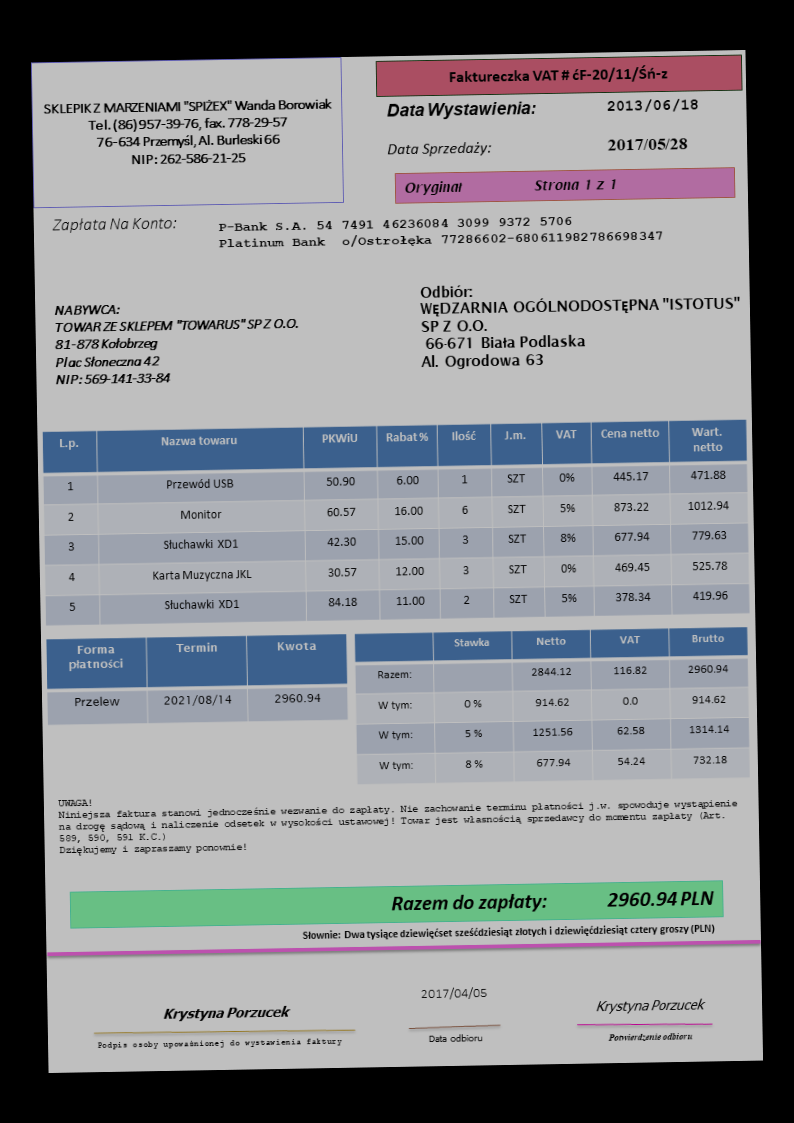Table: (41, 419, 752, 628), (353, 626, 753, 785), (44, 633, 348, 727)
TextBox: (55, 785, 740, 860), (418, 279, 744, 373), (50, 298, 304, 389), (41, 92, 334, 170), (215, 211, 667, 254), (300, 920, 717, 944), (388, 888, 716, 915), (447, 64, 670, 87), (95, 1034, 343, 1054), (405, 175, 621, 196), (385, 98, 539, 122), (49, 215, 180, 236), (162, 1004, 293, 1025), (594, 995, 707, 1017), (385, 140, 493, 159), (605, 96, 700, 116), (418, 982, 489, 1004), (607, 136, 688, 154), (607, 1030, 695, 1044), (427, 1030, 486, 1046)
